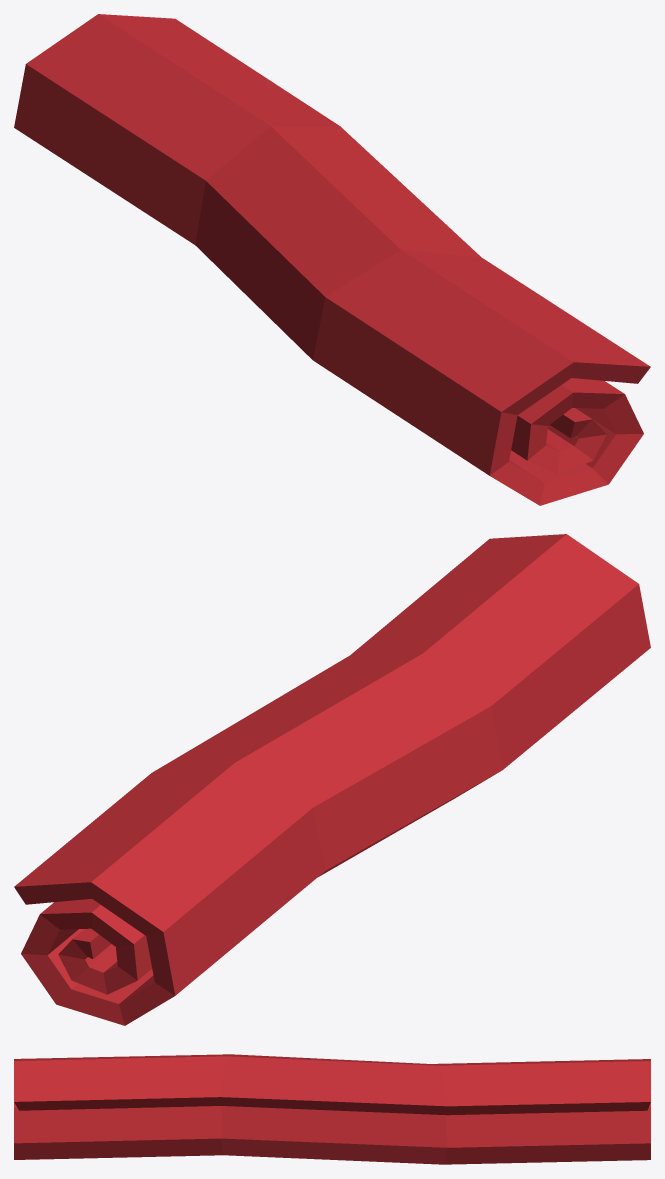
The model's file is carpet-rolled.glb.
3 views of the same model, one above another, from view 1: azimuth 30°, elevation 25°; view 2: azimuth 150°, elevation 25°; view 3: azimuth 270°, elevation 25° (orthographic). The views are drawn at different scales.
Visible parts, largest first — view 1: carpet-rolled; view 2: carpet-rolled; view 3: carpet-rolled.
Part boxes in pixels (x1,y1,x2,y2): carpet-rolled: [14, 14, 650, 505]; carpet-rolled: [14, 534, 650, 1025]; carpet-rolled: [14, 1054, 650, 1164].
Size of the model in its own units: 0.3905 by 0.2674 by 1.7.
Materials: 1 (1 with a texture image).
